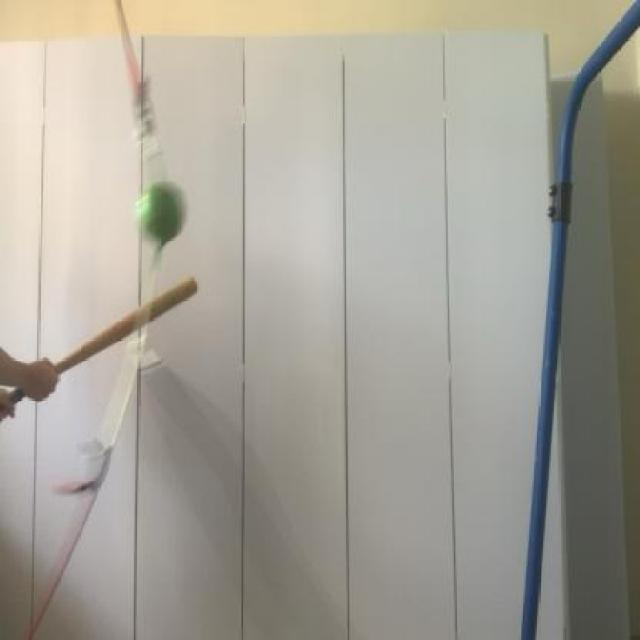baseball: (135, 173, 193, 250)
